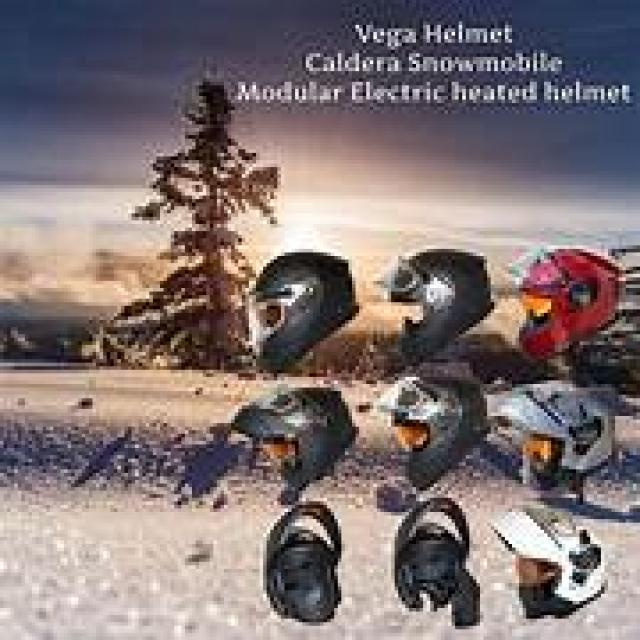helmet: (491, 380, 615, 498), (231, 388, 356, 501), (491, 501, 601, 615), (373, 380, 484, 487), (391, 249, 491, 363), (519, 249, 622, 356), (395, 501, 476, 622), (256, 252, 356, 348), (263, 501, 338, 619)
